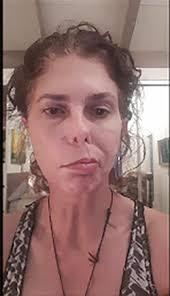strokeEyeWeak: (29, 82, 118, 125)
strokeMouthSevere: (49, 151, 109, 178)
